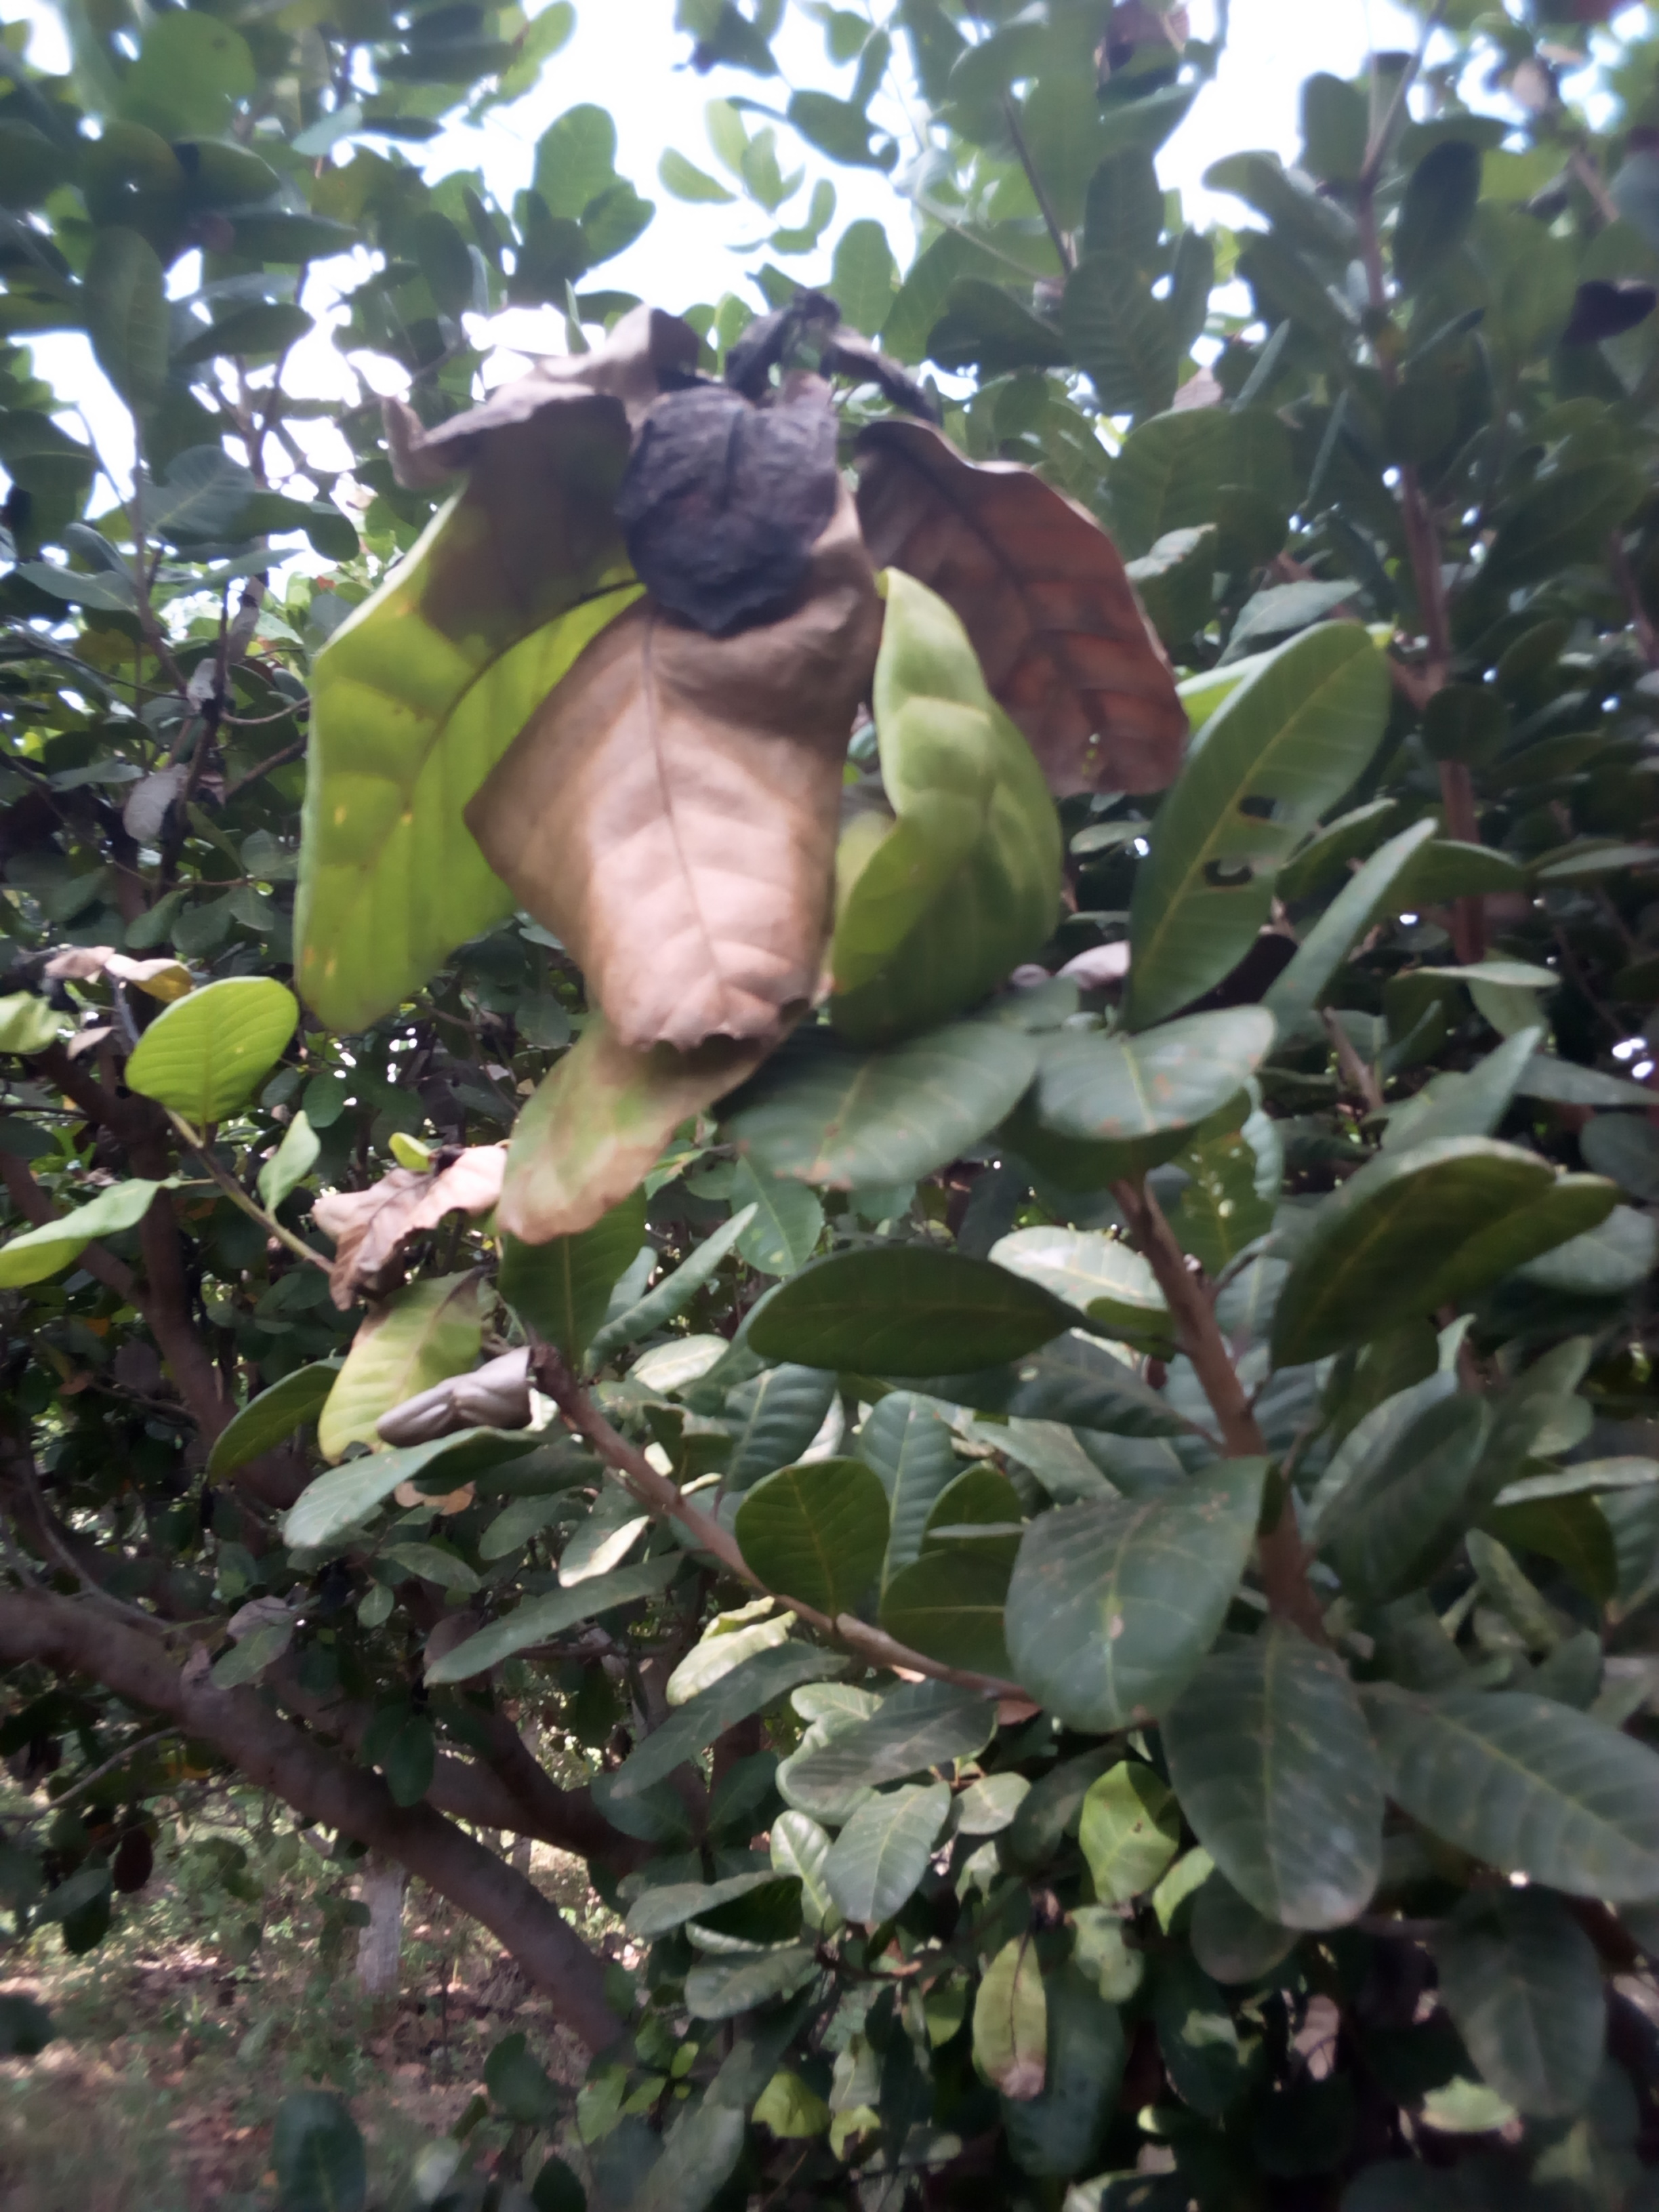Dessèchement des bourgeons: (619, 324, 880, 618)
